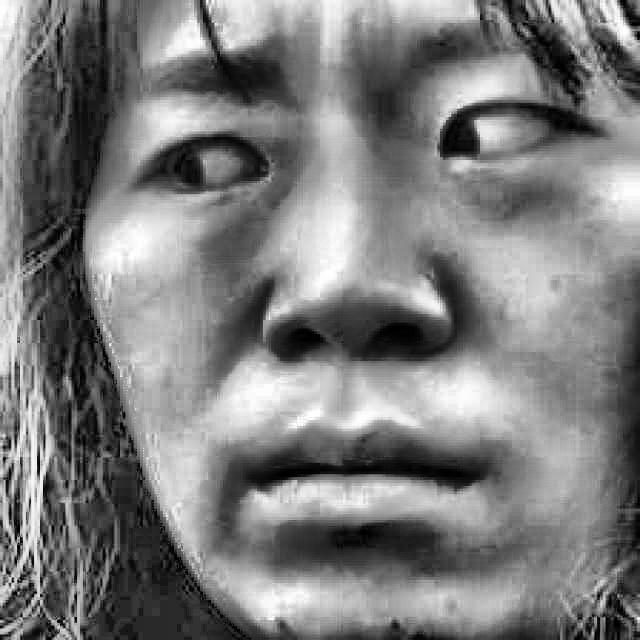fear: (111, 34, 627, 580)
